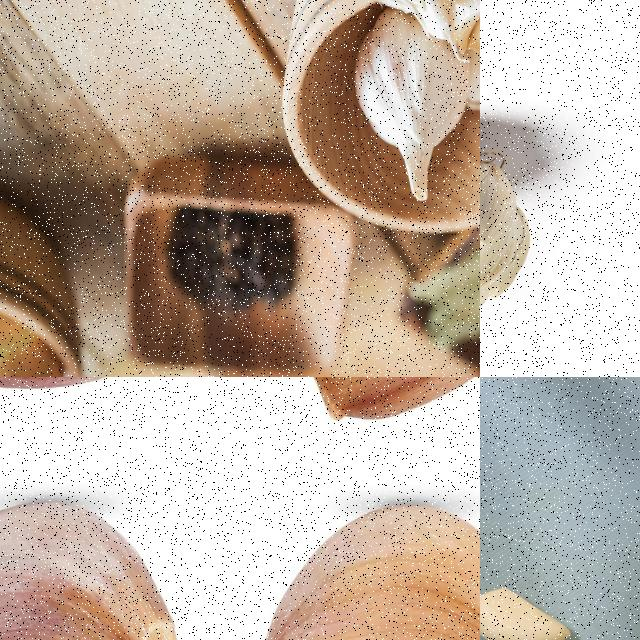garlic: (259, 502, 479, 639), (0, 495, 185, 639), (352, 5, 470, 204), (480, 133, 538, 376), (480, 584, 576, 639)
